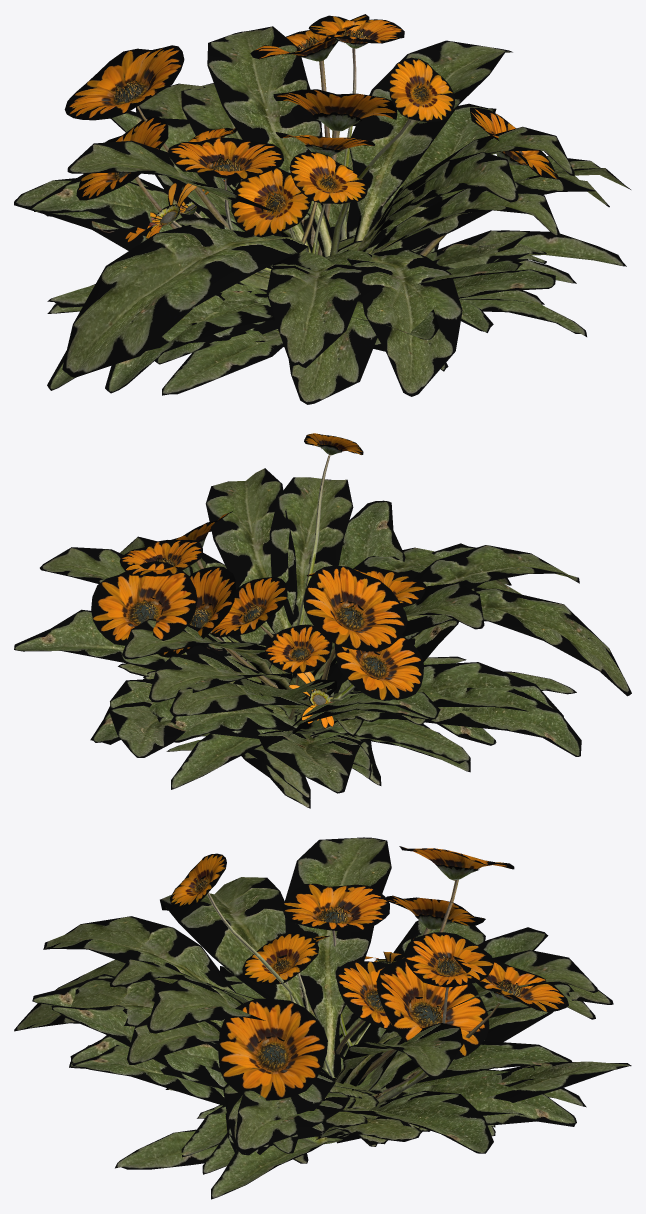
File: gazania-variants.glb
3 renders of one model, top to bottom at view 1: azimuth 30°, elevation 25°; view 2: azimuth 150°, elevation 25°; view 3: azimuth 270°, elevation 25°, orthographic. The views are drawn at different scales.
Parts seen in each view (by area): view 1: flower_gazania_h_LOD0, flower_gazania_f_LOD0, flower_gazania_g_LOD0, flower_gazania_e_LOD0, flower_gazania_d_LOD0, flower_gazania_b_LOD0, flower_gazania_c_LOD0; view 2: flower_gazania_h_LOD0, flower_gazania_f_LOD0, flower_gazania_g_LOD0, flower_gazania_e_LOD0, flower_gazania_d_LOD0, flower_gazania_c_LOD0, flower_gazania_b_LOD0; view 3: flower_gazania_h_LOD0, flower_gazania_f_LOD0, flower_gazania_g_LOD0, flower_gazania_d_LOD0, flower_gazania_b_LOD0, flower_gazania_e_LOD0, flower_gazania_c_LOD0.
Part boxes in pixels (x1,y1,x2,y2): flower_gazania_h_LOD0: (62, 15, 630, 396); flower_gazania_f_LOD0: (14, 83, 609, 390); flower_gazania_g_LOD0: (105, 14, 576, 404); flower_gazania_e_LOD0: (29, 127, 546, 307); flower_gazania_d_LOD0: (162, 132, 529, 395); flower_gazania_b_LOD0: (211, 150, 586, 371); flower_gazania_c_LOD0: (34, 210, 546, 313); flower_gazania_h_LOD0: (14, 433, 631, 789); flower_gazania_f_LOD0: (157, 543, 581, 793); flower_gazania_g_LOD0: (91, 511, 563, 728); flower_gazania_e_LOD0: (143, 569, 470, 798); flower_gazania_d_LOD0: (170, 577, 576, 785); flower_gazania_c_LOD0: (143, 678, 470, 808); flower_gazania_b_LOD0: (90, 638, 496, 745); flower_gazania_h_LOD0: (14, 837, 631, 1199); flower_gazania_f_LOD0: (32, 895, 613, 1157); flower_gazania_g_LOD0: (55, 935, 595, 1174); flower_gazania_d_LOD0: (70, 961, 571, 1153); flower_gazania_b_LOD0: (69, 1005, 576, 1169); flower_gazania_e_LOD0: (212, 883, 498, 1154); flower_gazania_c_LOD0: (207, 1042, 495, 1155).
Size of the model in its own units: 0.3376 by 0.1655 by 0.3262.
Materials: 1 (1 with a texture image).
